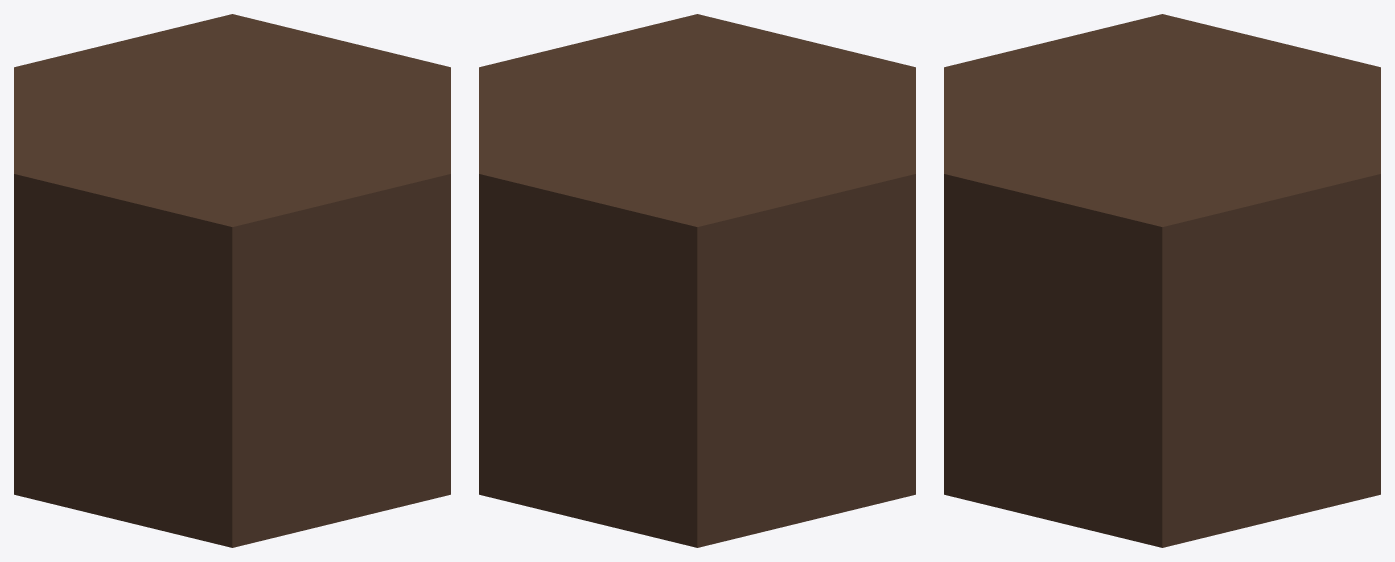
Rendered from SM_Prop_DownPipe_Connector_01.fbx.
3 views of the same model, side by side, from view 1: azimuth 30°, elevation 25°; view 2: azimuth 150°, elevation 25°; view 3: azimuth 270°, elevation 25° (orthographic).
Parts seen in each view (by area): view 1: SM_Prop_DownPipe_Connector_01; view 2: SM_Prop_DownPipe_Connector_01; view 3: SM_Prop_DownPipe_Connector_01.
Boxes of the visible parts, left/top/right/bottom form: SM_Prop_DownPipe_Connector_01: left=14, top=14, right=450, bottom=547; SM_Prop_DownPipe_Connector_01: left=479, top=14, right=915, bottom=547; SM_Prop_DownPipe_Connector_01: left=944, top=14, right=1380, bottom=547.
Bounding box in the file's own units: 27.83 × 19.53 × 24.1.
